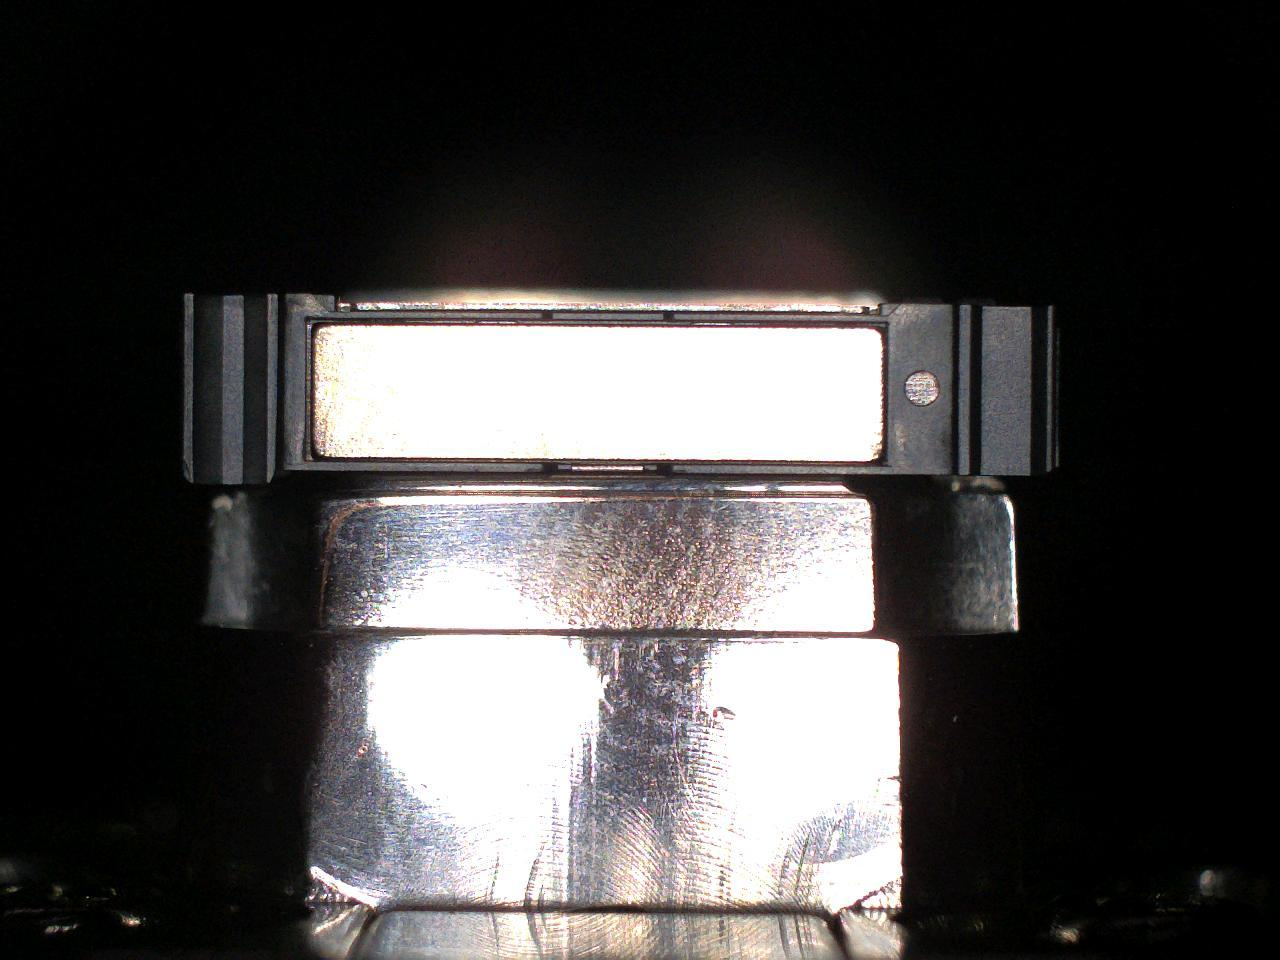frame: (184, 292, 1060, 484), (552, 312, 664, 320)
gap: (308, 318, 541, 328), (673, 320, 887, 330), (313, 457, 542, 465), (675, 459, 885, 467), (553, 320, 665, 329), (556, 458, 658, 465)
magnetic: (313, 326, 883, 462)
